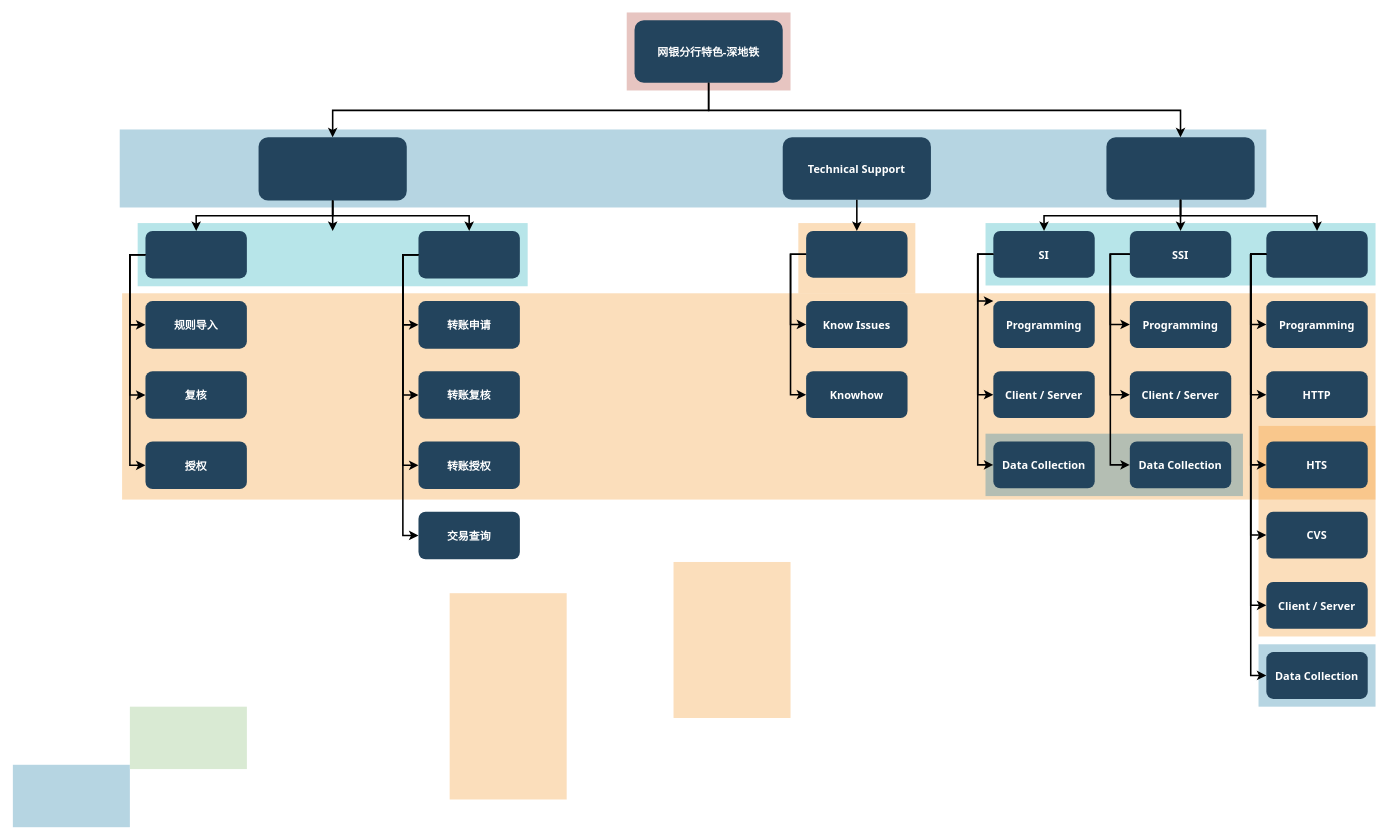
The diagram is 1388 pixels wide and 840 high, and some of its shapes have lost their labels. Each missing label, with the box of its shape:
FAQ: (806, 230, 907, 277)
Training Department: (1106, 137, 1254, 199)
XMI: (1266, 230, 1367, 277)
二级承包商: (418, 230, 519, 278)
云平台: (258, 137, 406, 200)
深地铁财务: (145, 230, 246, 278)
